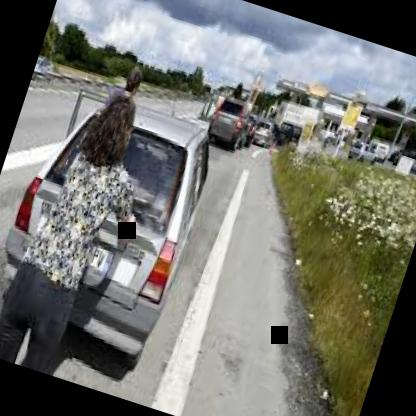car: (0, 56, 232, 394), (196, 69, 266, 170), (250, 92, 296, 160), (276, 102, 327, 160), (346, 139, 384, 175), (367, 128, 398, 171)
